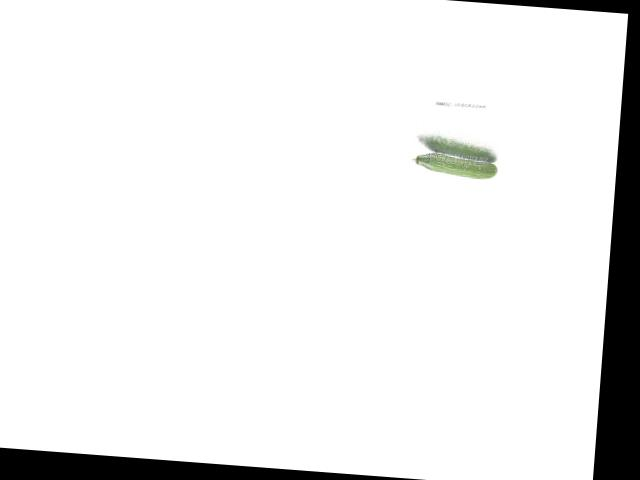cucumber: (411, 150, 497, 180)
